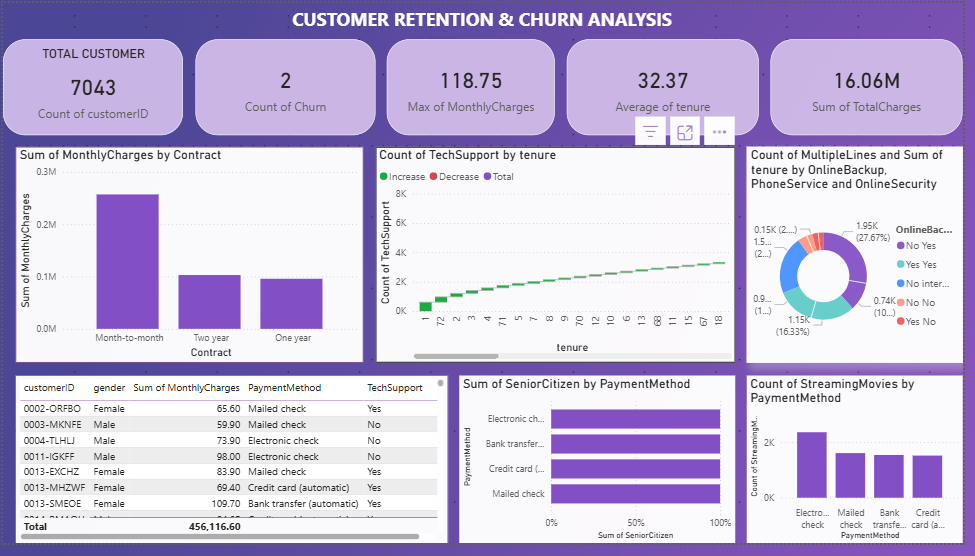

What the dashboard file says about the page in this screenshot:
{"tool":"powerbi","page":{"name":"Page 1","canvas":[1280,720],"ordinal":0},"visuals":[{"type":"card","title":"TOTAL CUSTOMER","fields":{"Values":["Count(WA_Fn-UseC_-Telco-Customer-Churn.customerID)"]},"box":[0,48,240,128],"z":0},{"type":"card","fields":{"Values":["Count(WA_Fn-UseC_-Telco-Customer-Churn.Churn)"]},"box":[256,48,240,128],"z":1000},{"type":"card","fields":{"Values":["Max(WA_Fn-UseC_-Telco-Customer-Churn.MonthlyCharges)"]},"box":[512,48,224,128],"z":2000},{"type":"card","fields":{"Values":["Avg(WA_Fn-UseC_-Telco-Customer-Churn.tenure)"]},"box":[752,48,256,128],"z":3000},{"type":"card","fields":{"Values":["Sum(WA_Fn-UseC_-Telco-Customer-Churn.TotalCharges)"]},"box":[1024,48,256,128],"z":4000},{"type":"waterfallChart","fields":{"Category":["WA_Fn-UseC_-Telco-Customer-Churn.tenure"],"Y":["CountNonNull(WA_Fn-UseC_-Telco-Customer-Churn.TechSupport)"]},"box":[496,192,480,288],"z":5000},{"type":"columnChart","fields":{"Category":["WA_Fn-UseC_-Telco-Customer-Churn.Contract"],"Y":["Sum(WA_Fn-UseC_-Telco-Customer-Churn.MonthlyCharges)"]},"box":[16,192,464,288],"z":6000},{"type":"donutChart","fields":{"Category":["WA_Fn-UseC_-Telco-Customer-Churn.OnlineBackup","WA_Fn-UseC_-Telco-Customer-Churn.PhoneService"],"Series":["WA_Fn-UseC_-Telco-Customer-Churn.OnlineSecurity"],"Y":["CountNonNull(WA_Fn-UseC_-Telco-Customer-Churn.MultipleLines)"]},"box":[992,192,288,288],"z":7000},{"type":"tableEx","fields":{"Values":["WA_Fn-UseC_-Telco-Customer-Churn.customerID","WA_Fn-UseC_-Telco-Customer-Churn.gender","Sum(WA_Fn-UseC_-Telco-Customer-Churn.MonthlyCharges)","WA_Fn-UseC_-Telco-Customer-Churn.PaymentMethod","WA_Fn-UseC_-Telco-Customer-Churn.TechSupport"]},"box":[16,496,576,224],"z":8000},{"type":"hundredPercentStackedBarChart","fields":{"Y":["Sum(WA_Fn-UseC_-Telco-Customer-Churn.SeniorCitizen)"],"Category":["WA_Fn-UseC_-Telco-Customer-Churn.PaymentMethod"]},"box":[608,496,368,224],"z":9000},{"type":"columnChart","fields":{"Category":["WA_Fn-UseC_-Telco-Customer-Churn.PaymentMethod"],"Y":["CountNonNull(WA_Fn-UseC_-Telco-Customer-Churn.StreamingMovies)"]},"box":[992,496,288,224],"z":10000},{"type":"textbox","box":[96,0,1088,48],"z":11000}]}

Visuals, with their boxes in screenshot pixels (x1, y1, x2, y2), scaled from the page's 1280x720 canvas onto the 975x556 screenshot:
"TOTAL CUSTOMER" card: bbox(0, 37, 183, 136)
card - Count(WA_Fn-UseC_-Telco-Customer-Churn.Churn): bbox(195, 37, 378, 136)
card - Max(WA_Fn-UseC_-Telco-Customer-Churn.MonthlyCharges): bbox(390, 37, 561, 136)
card - Avg(WA_Fn-UseC_-Telco-Customer-Churn.tenure): bbox(573, 37, 768, 136)
card - Sum(WA_Fn-UseC_-Telco-Customer-Churn.TotalCharges): bbox(780, 37, 974, 136)
waterfallChart - WA_Fn-UseC_-Telco-Customer-Churn.tenure x CountNonNull(WA_Fn-UseC_-Telco-Customer-Churn.TechSupport): bbox(378, 148, 743, 371)
columnChart - WA_Fn-UseC_-Telco-Customer-Churn.Contract x Sum(WA_Fn-UseC_-Telco-Customer-Churn.MonthlyCharges): bbox(12, 148, 366, 371)
donutChart - WA_Fn-UseC_-Telco-Customer-Churn.OnlineBackup x WA_Fn-UseC_-Telco-Customer-Churn.PhoneService: bbox(756, 148, 974, 371)
tableEx - WA_Fn-UseC_-Telco-Customer-Churn.customerID x WA_Fn-UseC_-Telco-Customer-Churn.gender: bbox(12, 383, 451, 555)
hundredPercentStackedBarChart - Sum(WA_Fn-UseC_-Telco-Customer-Churn.SeniorCitizen) x WA_Fn-UseC_-Telco-Customer-Churn.PaymentMethod: bbox(463, 383, 743, 555)
columnChart - WA_Fn-UseC_-Telco-Customer-Churn.PaymentMethod x CountNonNull(WA_Fn-UseC_-Telco-Customer-Churn.StreamingMovies): bbox(756, 383, 974, 555)
textbox: bbox(73, 0, 902, 37)
